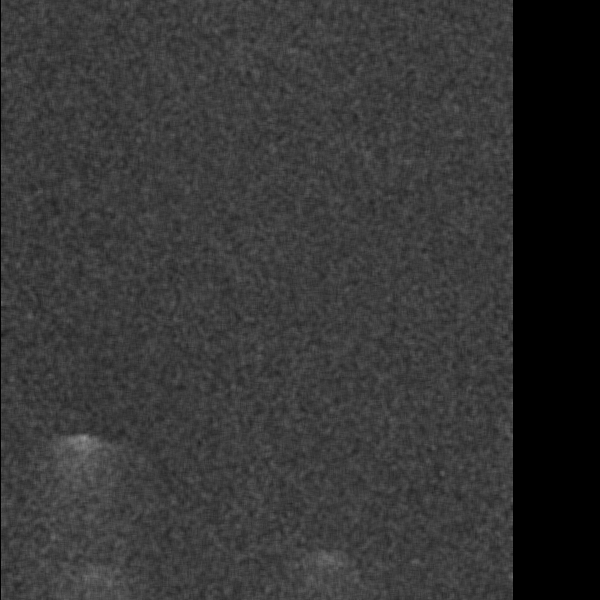spark: (497, 35, 514, 259), (297, 222, 336, 292), (397, 41, 428, 126), (273, 200, 309, 266), (319, 9, 342, 93), (334, 449, 357, 522), (312, 336, 338, 394), (288, 438, 317, 482)
